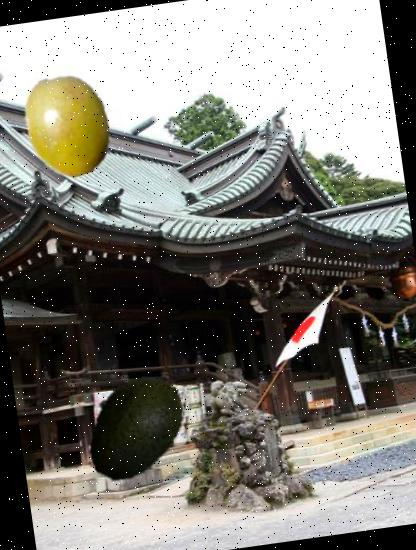Avocado: (69, 362, 200, 493)
Maracuja: (10, 68, 126, 184)
